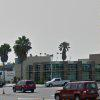Palm tree: (3, 35, 30, 75)
